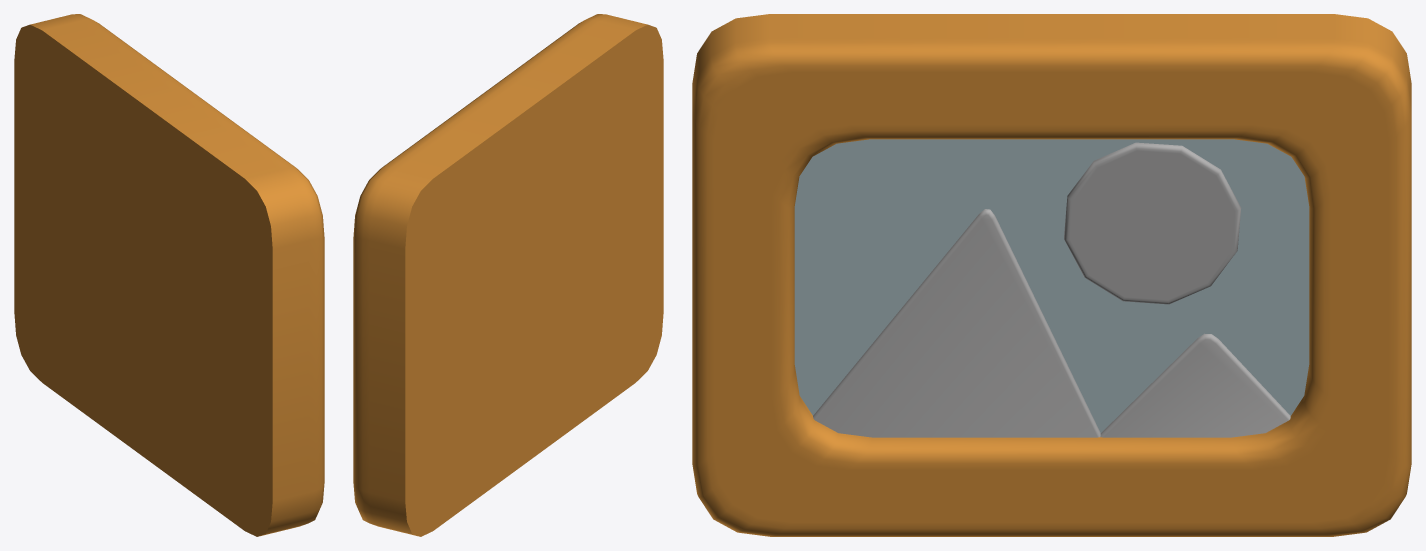
File: Painting.FBX
3 renders of one model, left to right at view 1: azimuth 30°, elevation 25°; view 2: azimuth 150°, elevation 25°; view 3: azimuth 270°, elevation 25°, orthographic. The views are drawn at different scales.
Visible parts, largest first — view 1: Painting; view 2: Painting; view 3: Painting.
Part boxes in pixels (x1,y1,x2,y2): Painting: (14, 14, 324, 536); Painting: (353, 14, 663, 536); Painting: (692, 14, 1411, 536).
Size of the model in its own units: 1.38 by 8.3 by 11.03.
